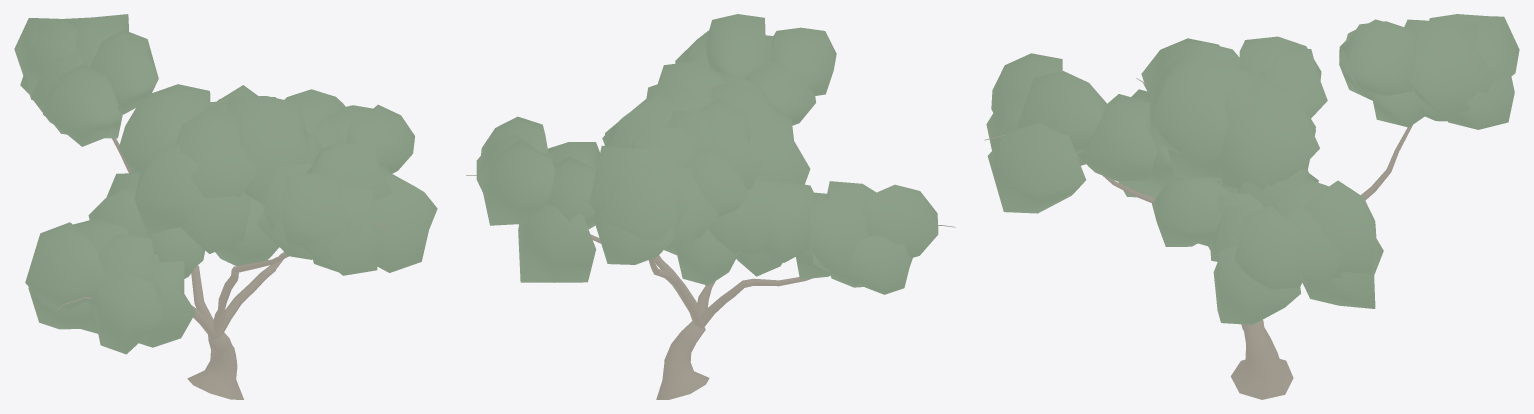
File: Blender_BlueOak_2.glb
3 views of the same model, side by side, from view 1: azimuth 30°, elevation 25°; view 2: azimuth 150°, elevation 25°; view 3: azimuth 270°, elevation 25° (orthographic). The views are drawn at different scales.
Parts seen in each view (by area): view 1: Blender_BlueOak_2; view 2: Blender_BlueOak_2; view 3: Blender_BlueOak_2.
Part boxes in pixels (bbox=[...]): Blender_BlueOak_2: bbox=[14, 14, 437, 399]; Blender_BlueOak_2: bbox=[466, 14, 955, 399]; Blender_BlueOak_2: bbox=[984, 14, 1519, 399].
Size of the model in its own units: 10.21 by 7.51 by 10.43.
